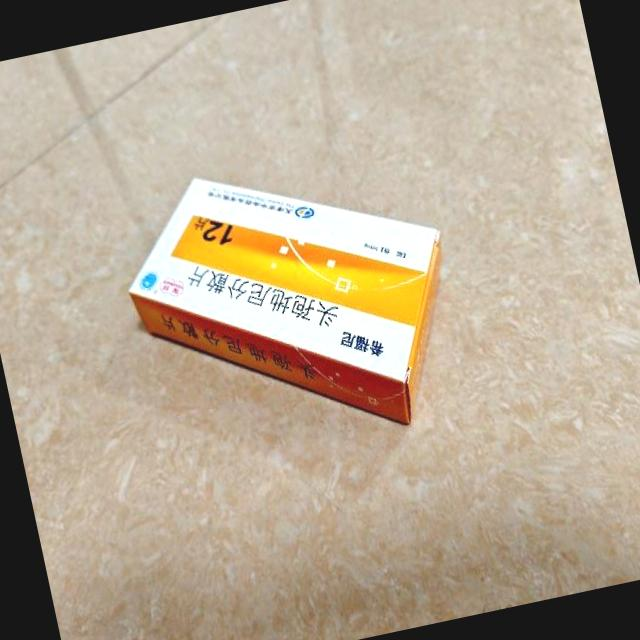box: (107, 130, 477, 476)
